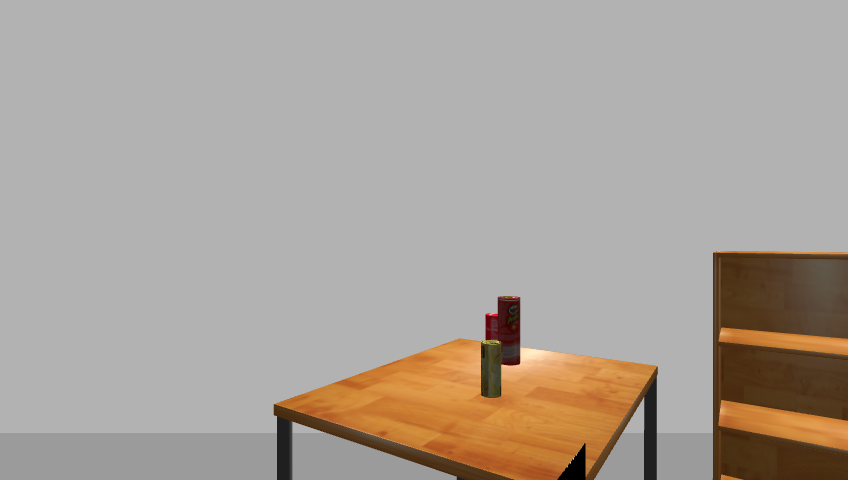aruco marker: (553, 444, 590, 480)
biscuits pack: (479, 340, 503, 399)
bookshelf: (708, 249, 848, 479)
coke can: (483, 313, 502, 363)
dinner table: (266, 339, 666, 480)
pringles can: (496, 295, 523, 367)
